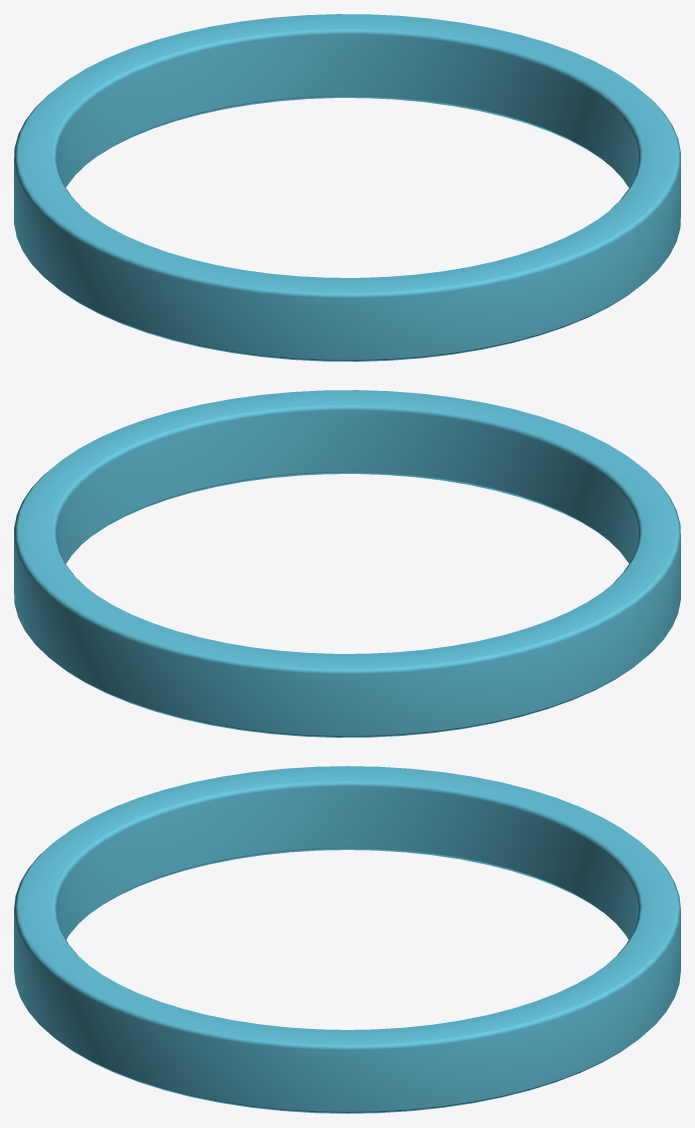
3 renders of one model, top to bottom at view 1: azimuth 30°, elevation 25°; view 2: azimuth 150°, elevation 25°; view 3: azimuth 270°, elevation 25°, orthographic.
Parts seen in each view (by area): view 1: seal_body; view 2: seal_body; view 3: seal_body.
Boxes of the visible parts, <box> form: seal_body: <box>14,14,680,361</box>; seal_body: <box>14,390,680,737</box>; seal_body: <box>14,766,680,1113</box>.
Size of the model in its own units: 0.1238 by 0.0143 by 0.1238.
